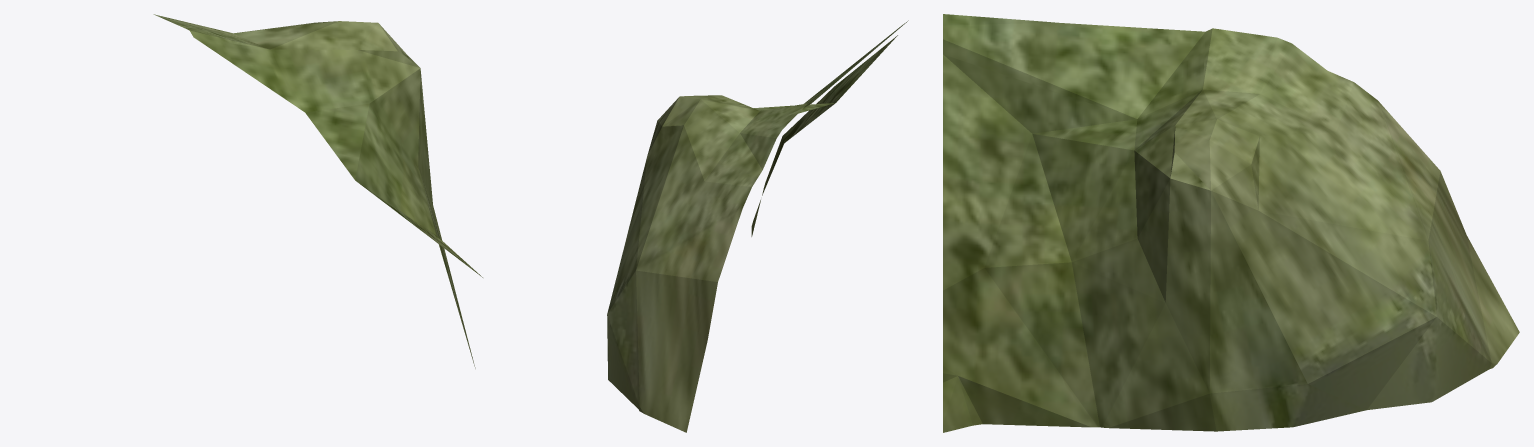
3 views of the same model, side by side, from view 1: azimuth 30°, elevation 25°; view 2: azimuth 150°, elevation 25°; view 3: azimuth 270°, elevation 25° (orthographic). The views are drawn at different scales.
Bounding box in the file's own units: 0.9824 × 1.45 × 2.38.
Materials: 1 (1 with a texture image).
